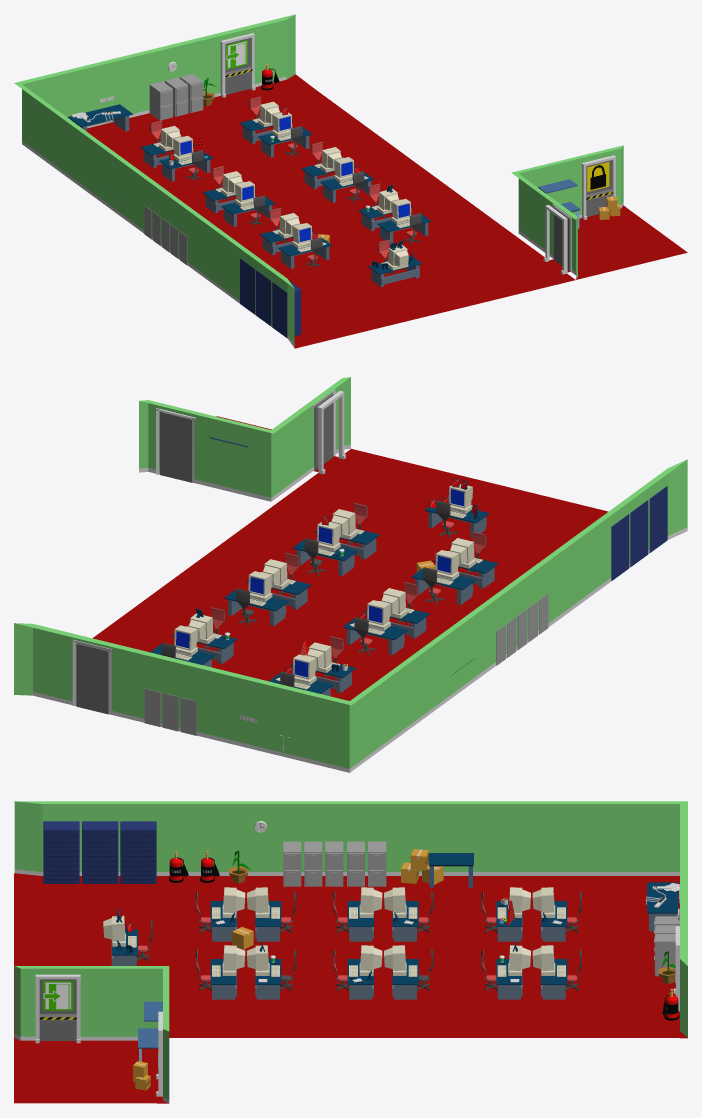
Rendered from Level -1&2-v2.fbx.
3 views of the same model, one above another, from view 1: azimuth 30°, elevation 25°; view 2: azimuth 150°, elevation 25°; view 3: azimuth 270°, elevation 25° (orthographic). The views are drawn at different scales.
Parts seen in each view (by area): view 1: polySurface63, LevelBase_1, Mesh_Door (×2), LevelChallenge_2, Mesh_Frame1, Mesh_Frame2; view 2: polySurface63, LevelBase_1, Mesh_Door (×2), Mesh_Frame2, Mesh_Frame1; view 3: polySurface63, LevelBase_1, Mesh_Door, LevelChallenge_2, Mesh_Frame.
Boxes of the visible parts, x1,y1,x2,y2 form: polySurface63: (14,14,575,348); LevelBase_1: (511,145,687,279); Mesh_Door (×2): (225,38,569,271); LevelChallenge_2: (68,96,132,131); Mesh_Frame1: (220,33,255,97); Mesh_Frame2: (543,205,567,274); polySurface63: (14,449,687,772); LevelBase_1: (139,377,350,501); Mesh_Door (×2): (76,394,333,714); Mesh_Frame2: (317,391,345,474); Mesh_Frame1: (72,639,111,714); polySurface63: (14,801,687,1041); LevelBase_1: (14,966,169,1103); Mesh_Door: (39,979,76,1040); LevelChallenge_2: (645,882,679,931); Mesh_Frame: (35,974,80,1043).
Bounding box in the file's own units: 47.68 × 6.99 × 58.97.
Materials: 62 (9 with a texture image).
